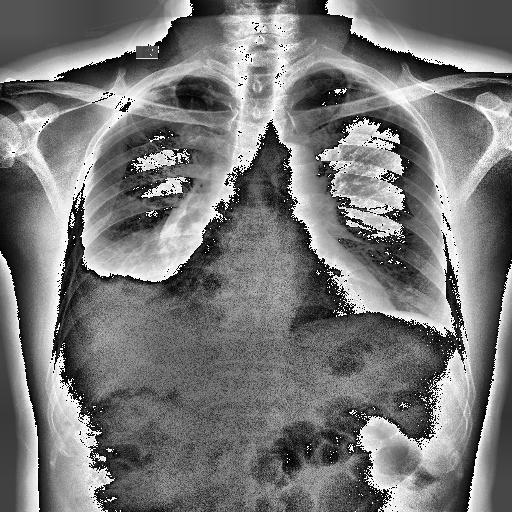0- Aortic enlargement: (260, 142, 318, 194)
10- Pleural effusion: (59, 244, 186, 362), (68, 240, 206, 322), (68, 248, 214, 316)
11- Pleural thickening: (132, 68, 214, 102), (295, 66, 382, 90), (136, 74, 220, 96), (341, 62, 390, 94), (340, 65, 386, 93), (137, 72, 183, 95)
13- Pulmonary fibrosis: (118, 178, 202, 280)
3- Cardiomegaly: (168, 258, 394, 326), (166, 270, 398, 326)
7- Lung Opacity: (156, 176, 202, 248)
